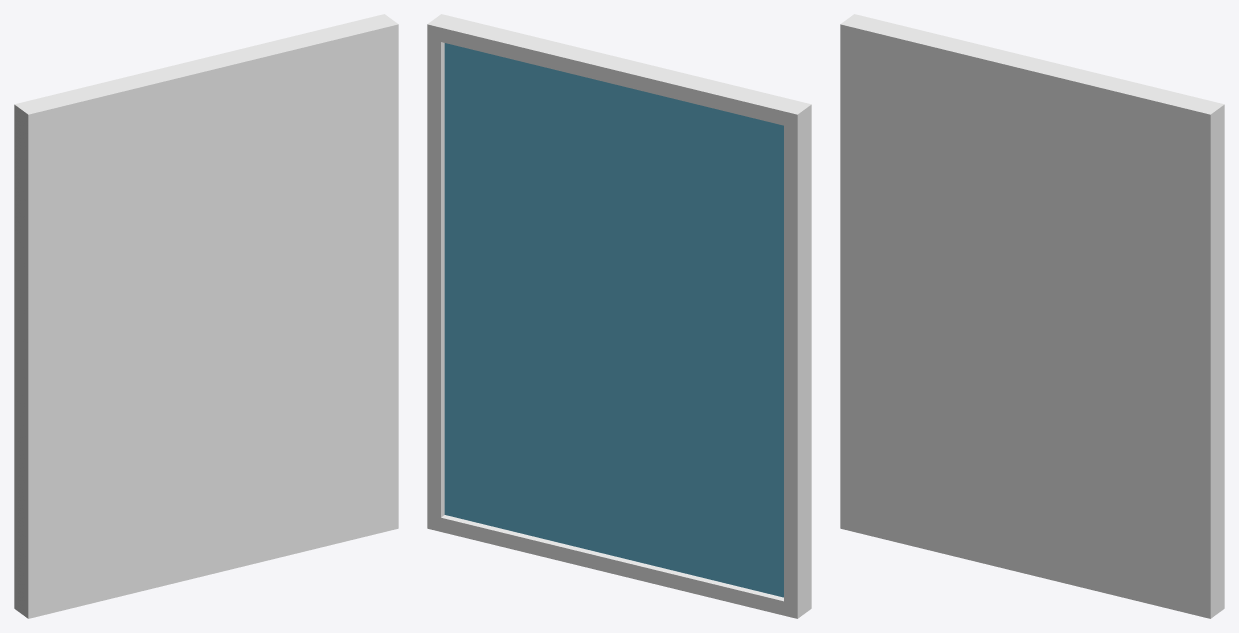
Rendered from SM_Mirror_01.FBX.
3 views of the same model, side by side, from view 1: azimuth 30°, elevation 25°; view 2: azimuth 150°, elevation 25°; view 3: azimuth 330°, elevation 25° (orthographic).
Parts seen in each view (by area): view 1: SM_Mirror_01; view 2: SM_Mirror_01; view 3: SM_Mirror_01.
Boxes of the visible parts, x1=… form: SM_Mirror_01: x1=14, y1=14, x2=398, y2=618; SM_Mirror_01: x1=427, y1=14, x2=811, y2=618; SM_Mirror_01: x1=840, y1=14, x2=1224, y2=618.
Bounding box in the file's own units: 70.46 × 4.66 × 91.69.
